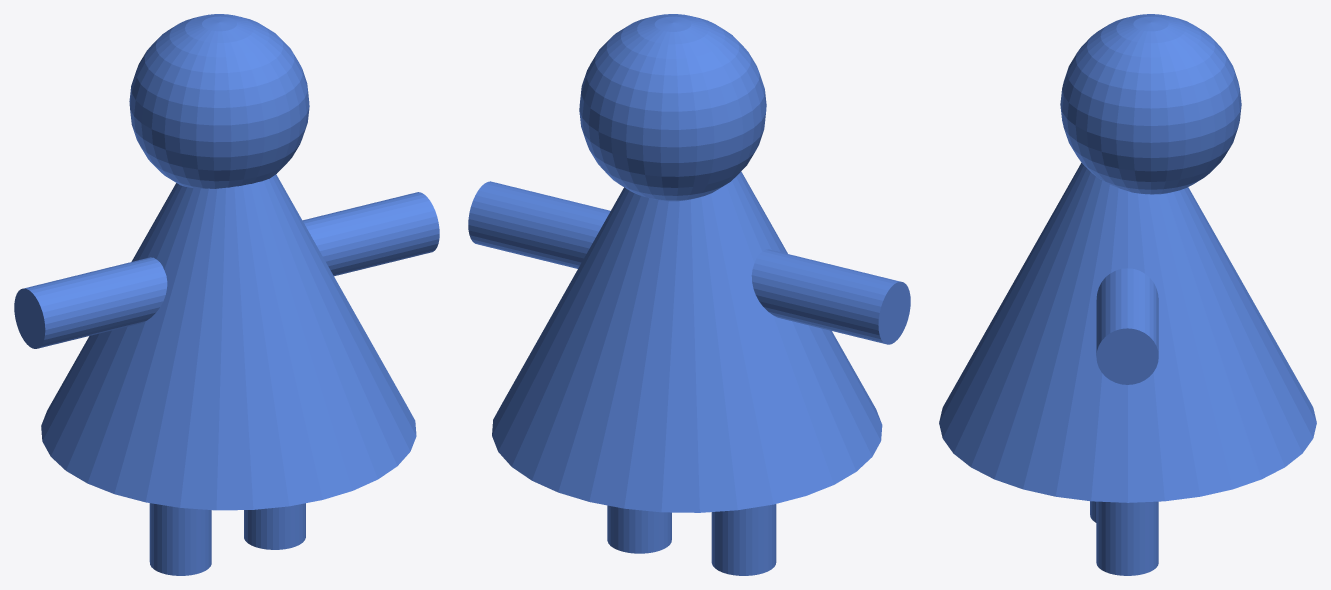
The model's file is character1.fbx.
3 renders of one model, left to right at view 1: azimuth 30°, elevation 25°; view 2: azimuth 150°, elevation 25°; view 3: azimuth 270°, elevation 25°, orthographic. The views are drawn at different scales.
Visible parts, largest first — view 1: character; view 2: character; view 3: character.
Boxes of the visible parts, box(x1,y1,x2,y2) form: character: box(14, 14, 439, 575); character: box(468, 14, 910, 575); character: box(939, 14, 1316, 575).
Bounding box in the file's own units: 87.63 × 110 × 72.37.
